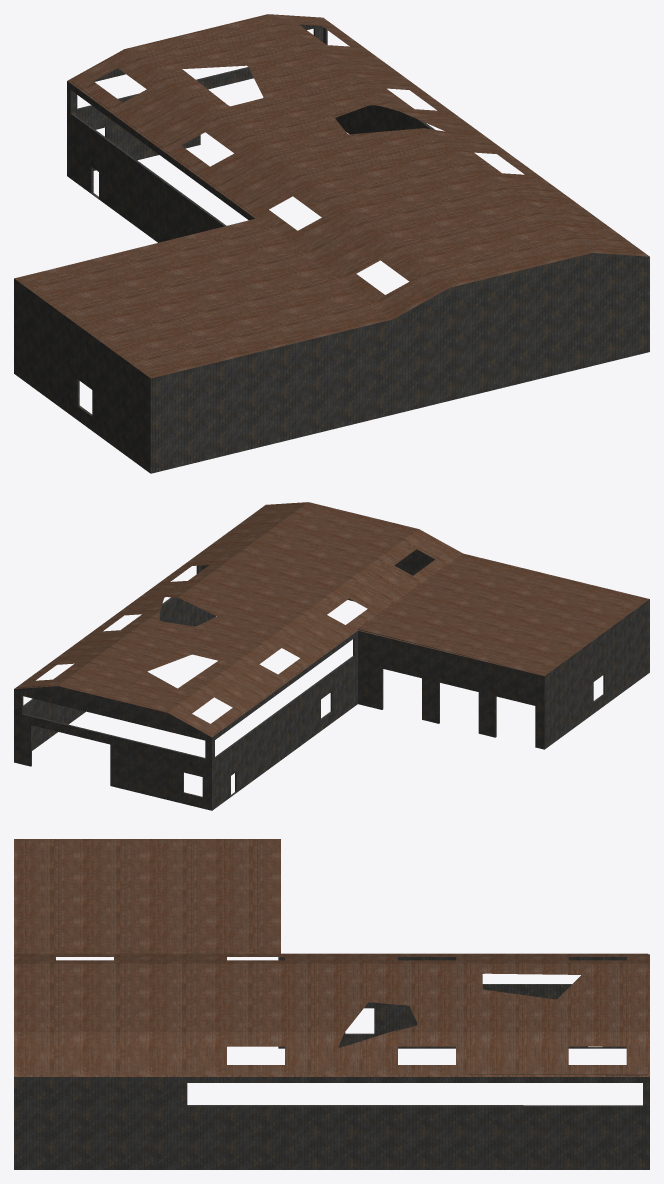
Rendered from facade.glb.
3 views of the same model, one above another, from view 1: azimuth 30°, elevation 25°; view 2: azimuth 150°, elevation 25°; view 3: azimuth 270°, elevation 25° (orthographic). The views are drawn at different scales.
Visible parts, largest first — view 1: Roof_rusty metal plate corrugated_0, WarehouseWalls_factory_wall_0; view 2: Roof_rusty metal plate corrugated_0, WarehouseWalls_factory_wall_0; view 3: Roof_rusty metal plate corrugated_0, WarehouseWalls_factory_wall_0.
Boxes of the visible parts, bbox=[...] form: Roof_rusty metal plate corrugated_0: bbox=[14, 14, 649, 378]; WarehouseWalls_factory_wall_0: bbox=[14, 24, 649, 473]; Roof_rusty metal plate corrugated_0: bbox=[14, 502, 649, 736]; WarehouseWalls_factory_wall_0: bbox=[14, 549, 649, 810]; Roof_rusty metal plate corrugated_0: bbox=[14, 839, 649, 1076]; WarehouseWalls_factory_wall_0: bbox=[14, 957, 649, 1169].
Size of the model in its own units: 29.18 by 6.35 by 32.99.
Materials: 2 (2 with a texture image).
